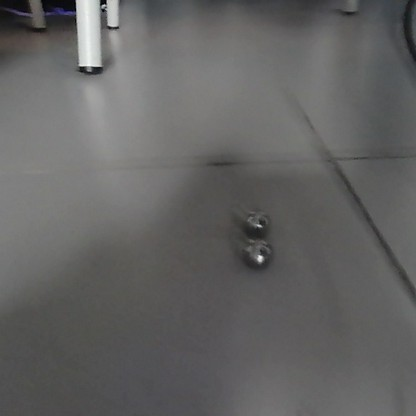ironball: (239, 239, 276, 271), (244, 209, 271, 240)
